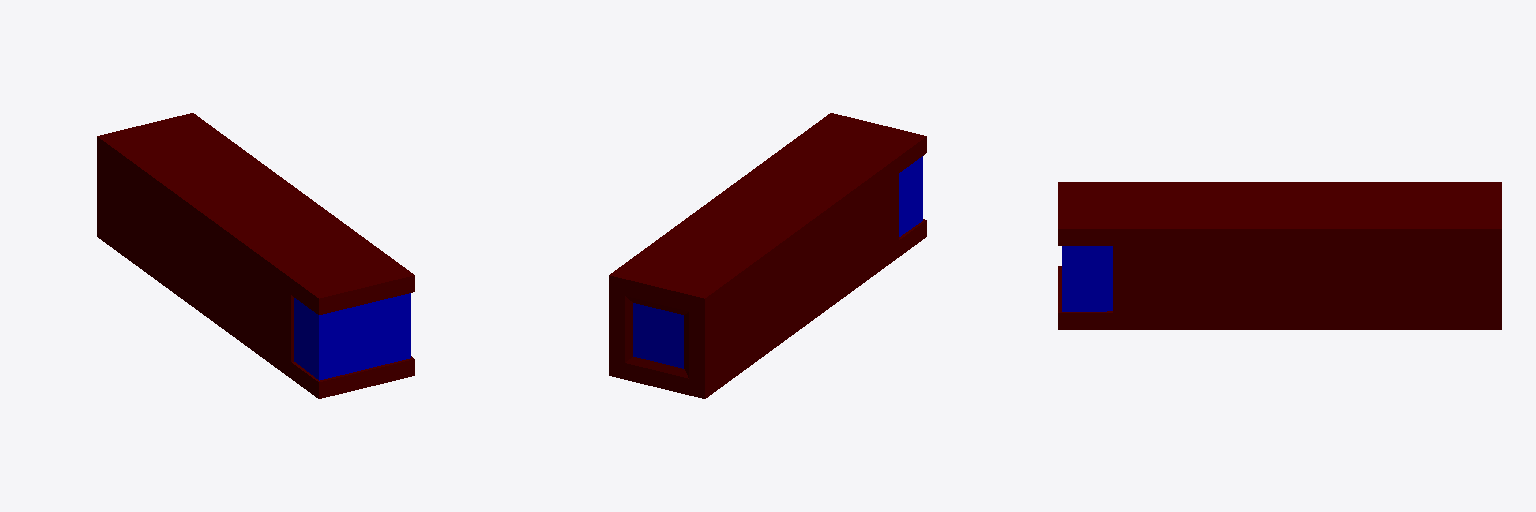
File: Ship_Outside.obj
3 renders of one model, left to right at view 1: azimuth 30°, elevation 25°; view 2: azimuth 150°, elevation 25°; view 3: azimuth 270°, elevation 25°, orthographic.
Parts seen in each view (by area): view 1: Ship_Outside_Cube; view 2: Ship_Outside_Cube; view 3: Ship_Outside_Cube.
Part boxes in pixels (x1,y1,x2,y2): Ship_Outside_Cube: (97, 113, 414, 398); Ship_Outside_Cube: (609, 113, 926, 398); Ship_Outside_Cube: (1058, 182, 1501, 329).
Bounding box in the file's own units: 3 × 3 × 12.